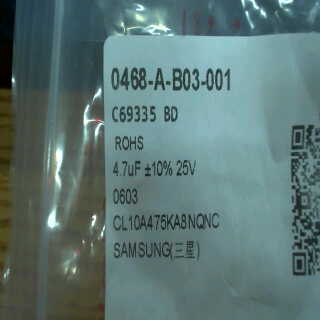4.7uF: (108, 157, 143, 181)
